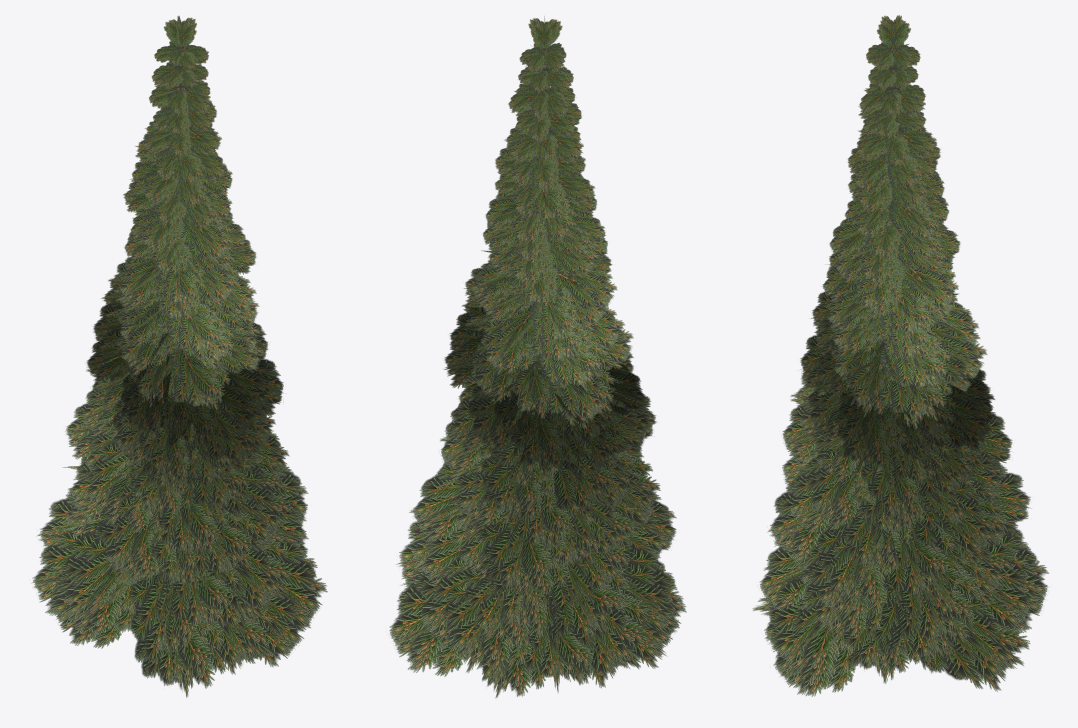
File: spruce1_needles.glb
The picture shows the model from 3 angles, left to right: view 1: azimuth 30°, elevation 25°; view 2: azimuth 150°, elevation 25°; view 3: azimuth 270°, elevation 25°; orthographic projection. The views are drawn at different scales.
Visible parts, largest first — view 1: needles; view 2: needles; view 3: needles.
Boxes of the visible parts, x1=… form: needles: x1=31, y1=15, x2=327, y2=697; needles: x1=389, y1=16, x2=686, y2=698; needles: x1=752, y1=15, x2=1049, y2=696.
Size of the model in its own units: 5.21 by 11.9 by 5.27.
Materials: 1 (1 with a texture image).
